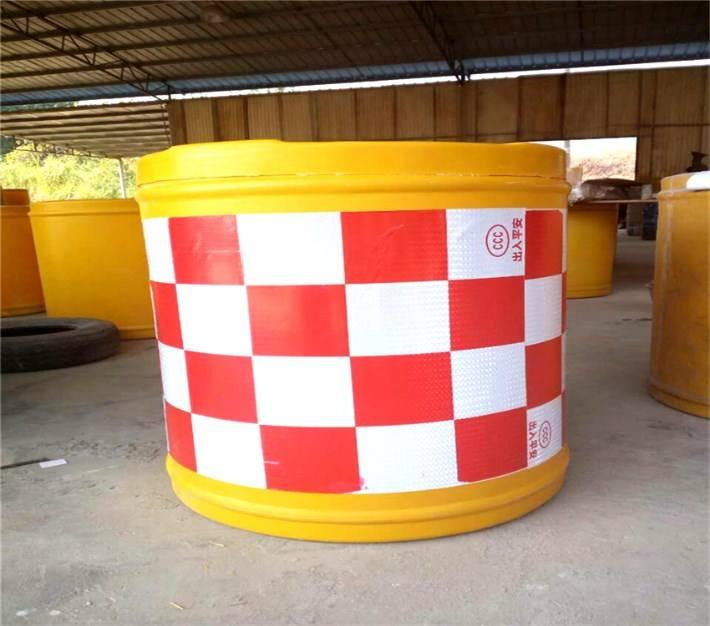sign: (123, 117, 587, 543)
